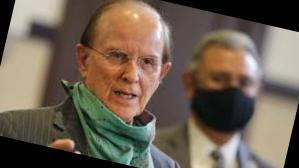mask_weared_incorrect: (81, 34, 170, 136)
with_mask: (189, 61, 266, 135)
